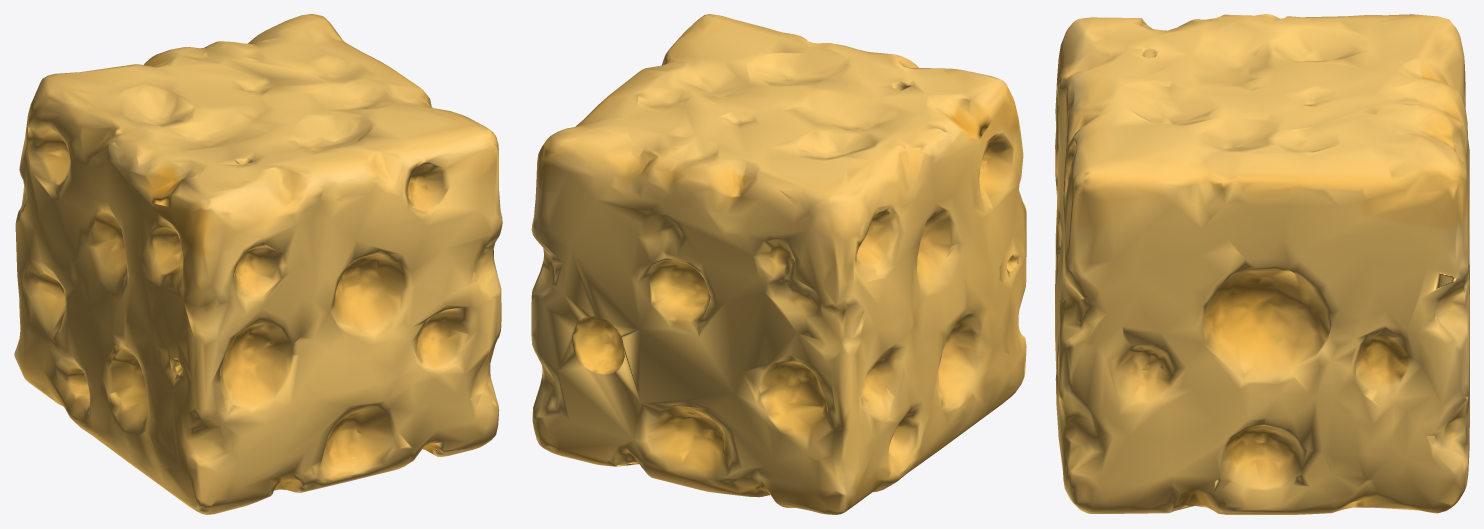
3 views of the same model, side by side, from view 1: azimuth 30°, elevation 25°; view 2: azimuth 150°, elevation 25°; view 3: azimuth 270°, elevation 25° (orthographic). The views are drawn at different scales.
Visible parts, largest first — view 1: Meshy_AI_Swiss_cheese_cube_0802210756_texture; view 2: Meshy_AI_Swiss_cheese_cube_0802210756_texture; view 3: Meshy_AI_Swiss_cheese_cube_0802210756_texture.
Boxes of the visible parts, bbox=[...] form: Meshy_AI_Swiss_cheese_cube_0802210756_texture: bbox=[14, 14, 502, 514]; Meshy_AI_Swiss_cheese_cube_0802210756_texture: bbox=[531, 14, 1026, 514]; Meshy_AI_Swiss_cheese_cube_0802210756_texture: bbox=[1055, 14, 1469, 514].
Bounding box in the file's own units: 1.88 × 1.8 × 1.9.
1 material, 1 textured.
